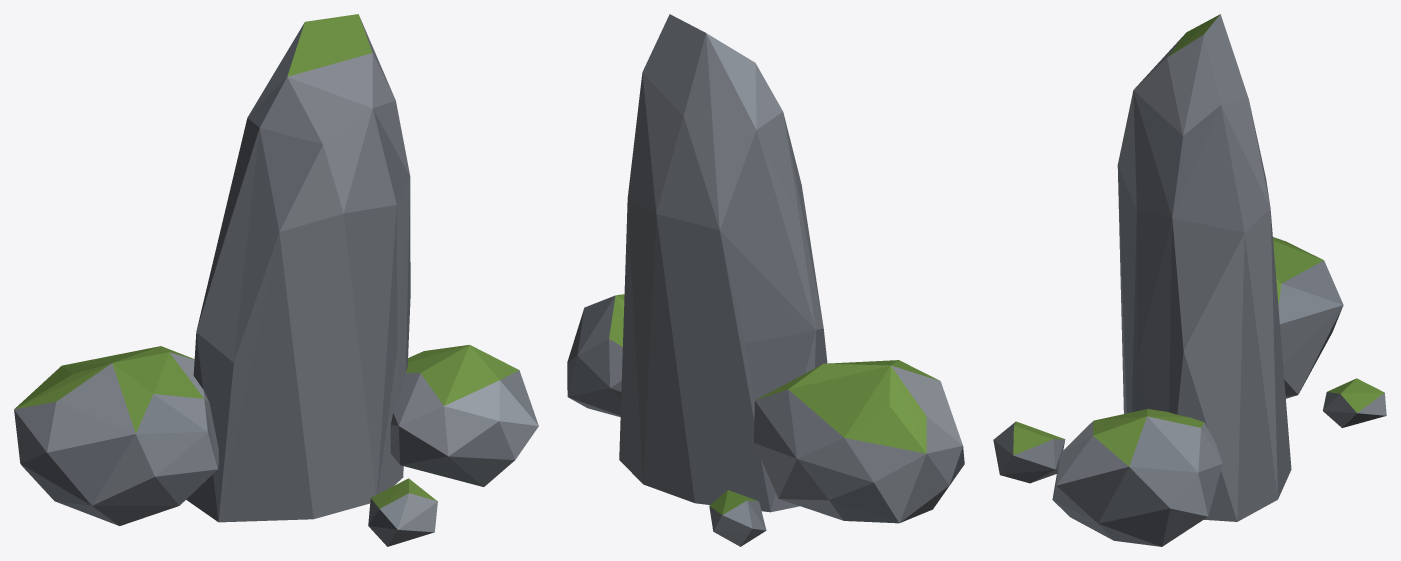
The model's file is rock_b.glb.
3 renders of one model, left to right at view 1: azimuth 30°, elevation 25°; view 2: azimuth 150°, elevation 25°; view 3: azimuth 270°, elevation 25°, orthographic. The views are drawn at different scales.
Parts seen in each view (by area): view 1: rock_b; view 2: rock_b; view 3: rock_b.
Part boxes in pixels (box(x1,y1,x2,y2)): rock_b: box(14, 14, 538, 546); rock_b: box(567, 14, 964, 546); rock_b: box(993, 14, 1386, 546).
Size of the model in its own units: 3.01 by 3 by 2.27.
